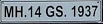character: (4, 5, 13, 18), (14, 5, 23, 17), (45, 5, 54, 17), (33, 5, 41, 17), (55, 5, 63, 17), (84, 4, 91, 17), (77, 5, 84, 17), (91, 4, 98, 16), (27, 5, 33, 18), (71, 5, 76, 17)
